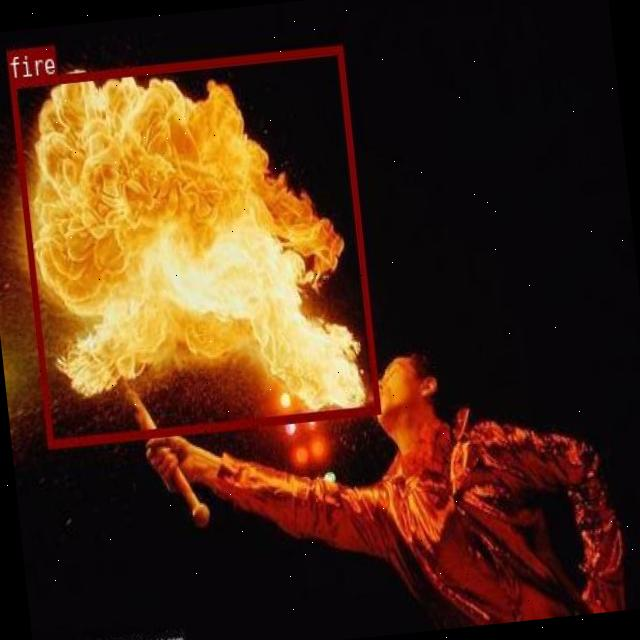fire: (8, 44, 379, 446)
